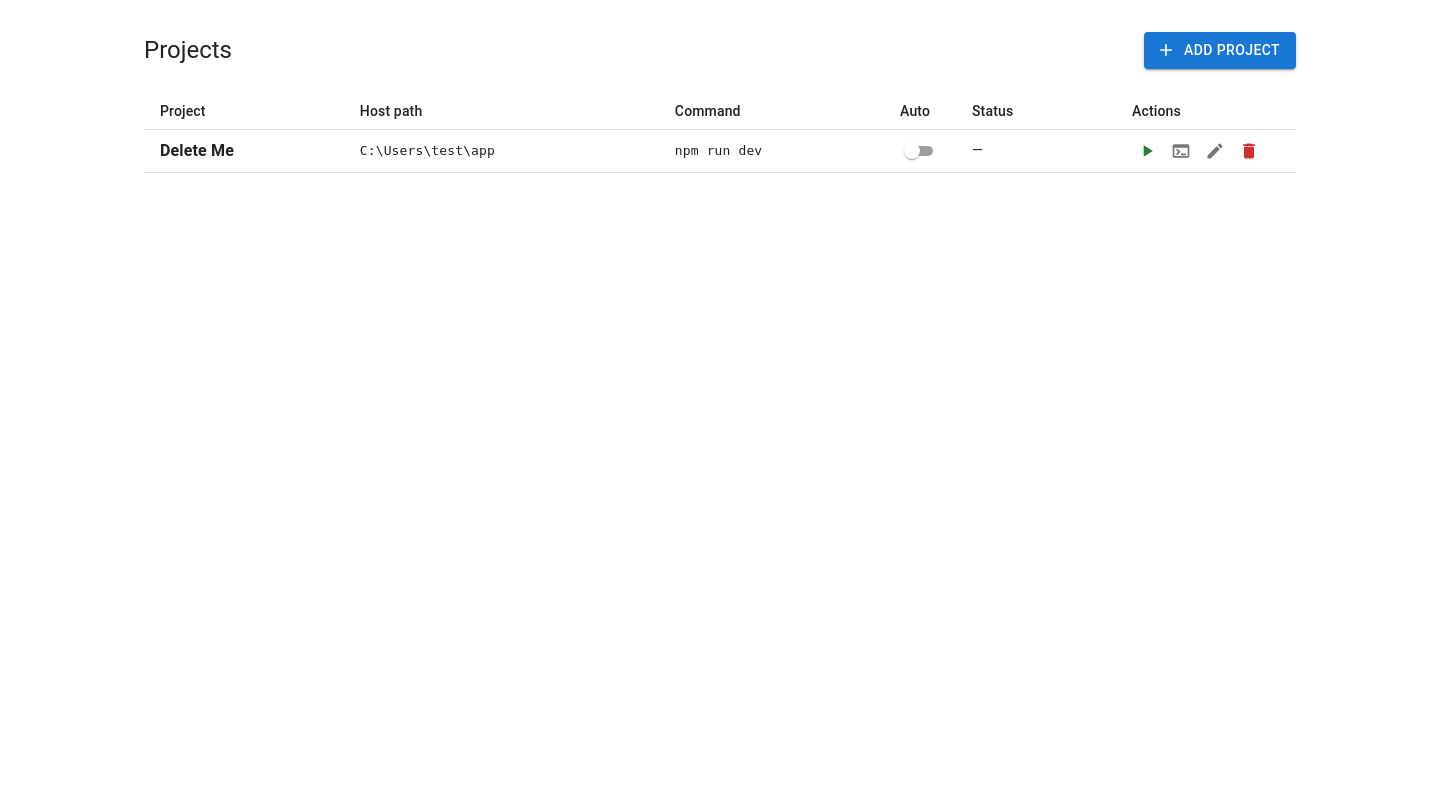
Test: ProjectRegistryPage › removes project from registry after successful delete
Expected: the text "Delete Me" is shown, [160,140,234,160]
Click the button named "Delete project".
click(1249, 150)  # box [1234,136,1264,166]
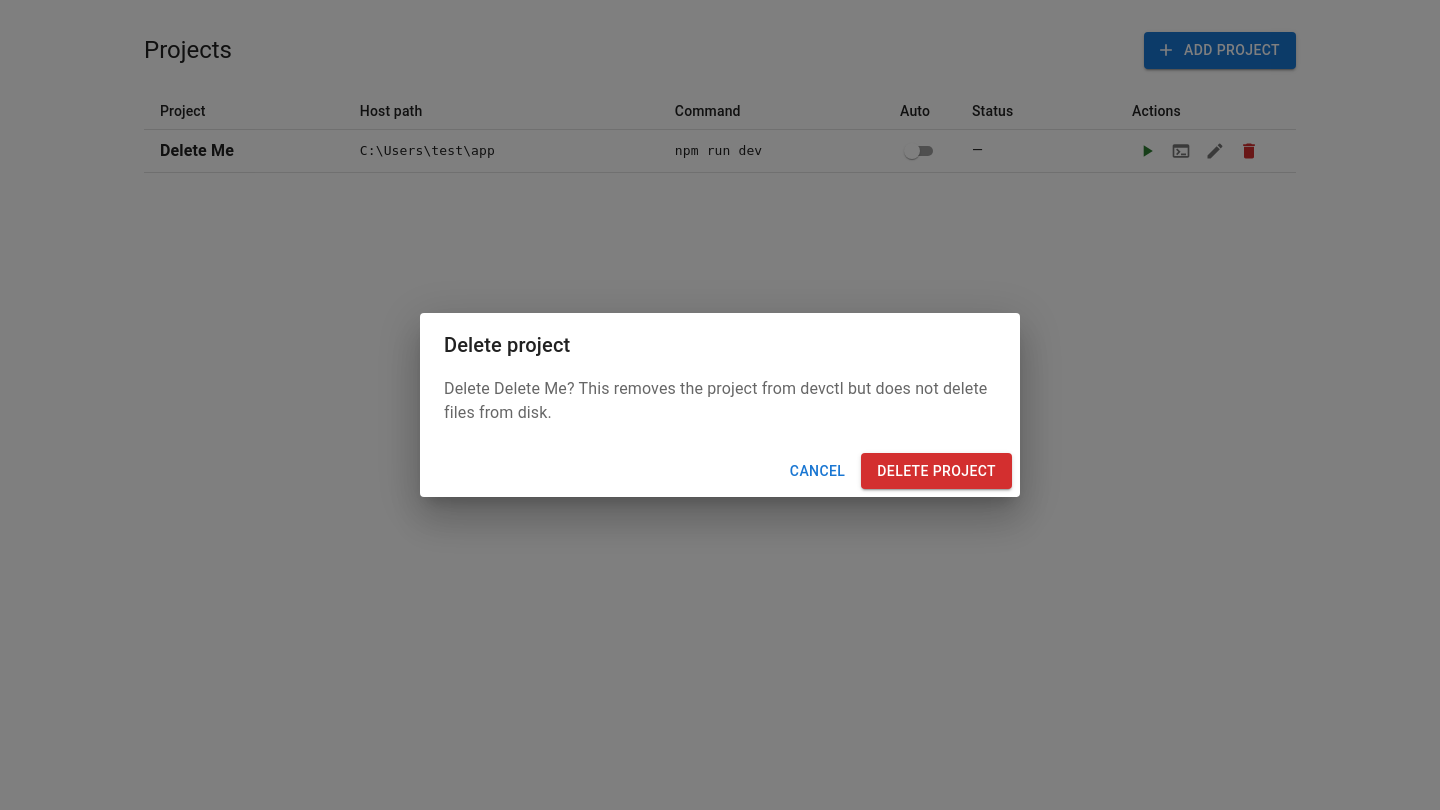
Click the button "Delete project".
click(937, 471)  # box [861,453,1012,489]
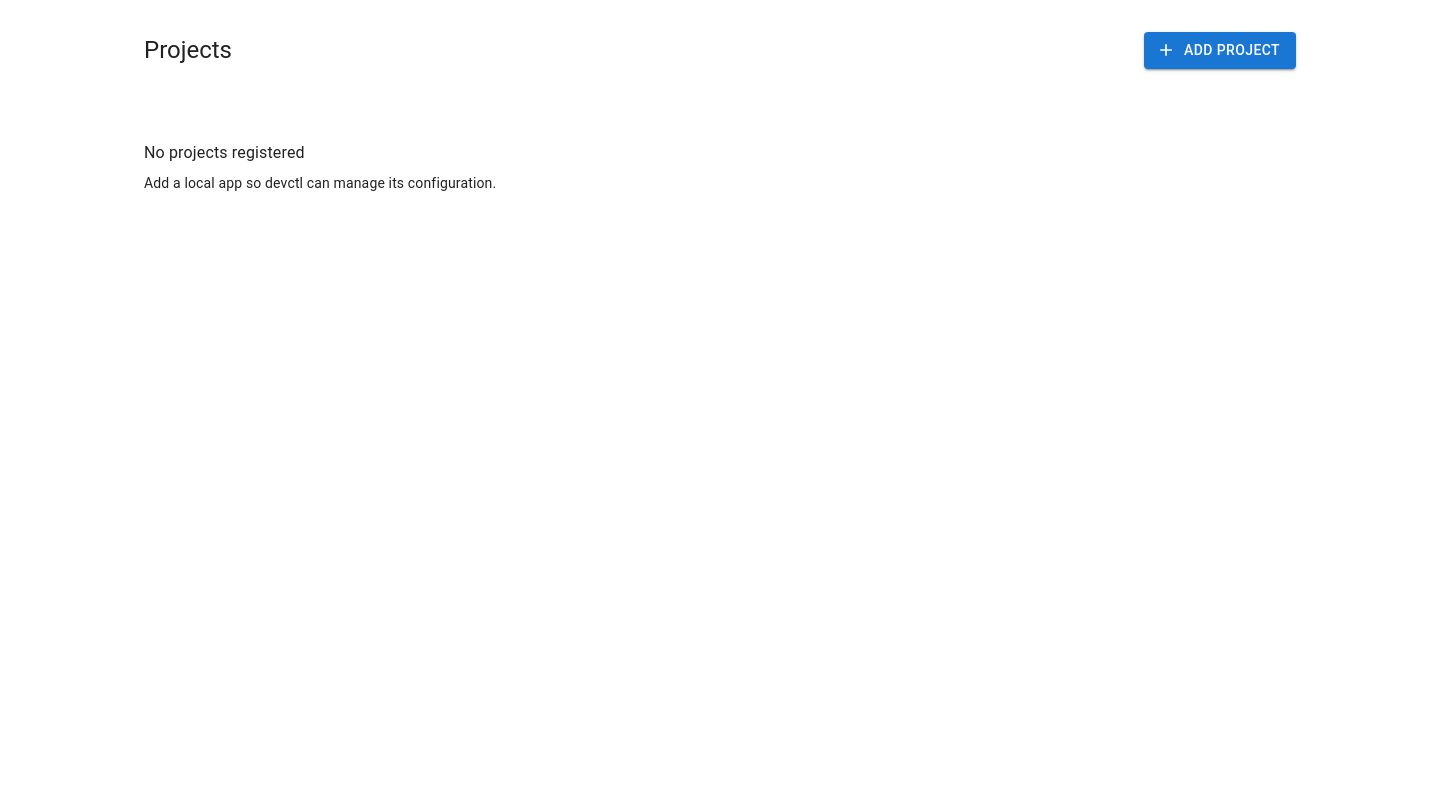
Expected: the text "No projects registered" is shown, [144,142,305,162]
